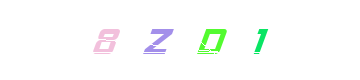1: (187, 0, 267, 80)
8: (79, 0, 159, 80)
D: (140, 0, 220, 80)
Z: (119, 0, 199, 80)
